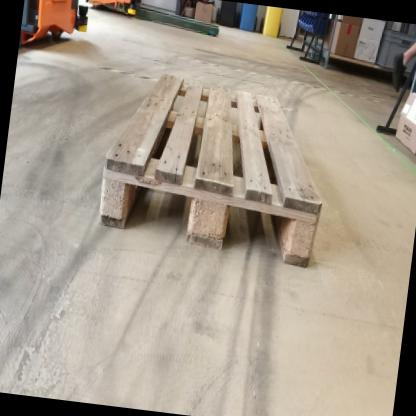BoxFace: (97, 68, 327, 274)
